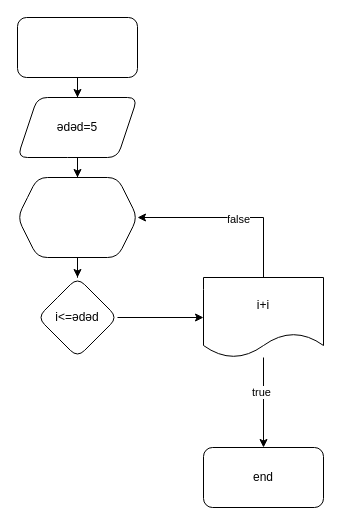
The diagram is 341 pixels wide and 525 high, and some of its shapes have lost their labels. Here are the shapes that lost their labels. From the top down, the box of each, then its label:
(16, 16, 138, 78): start
(16, 176, 138, 258): int i=1; i<=ədəd; i++
